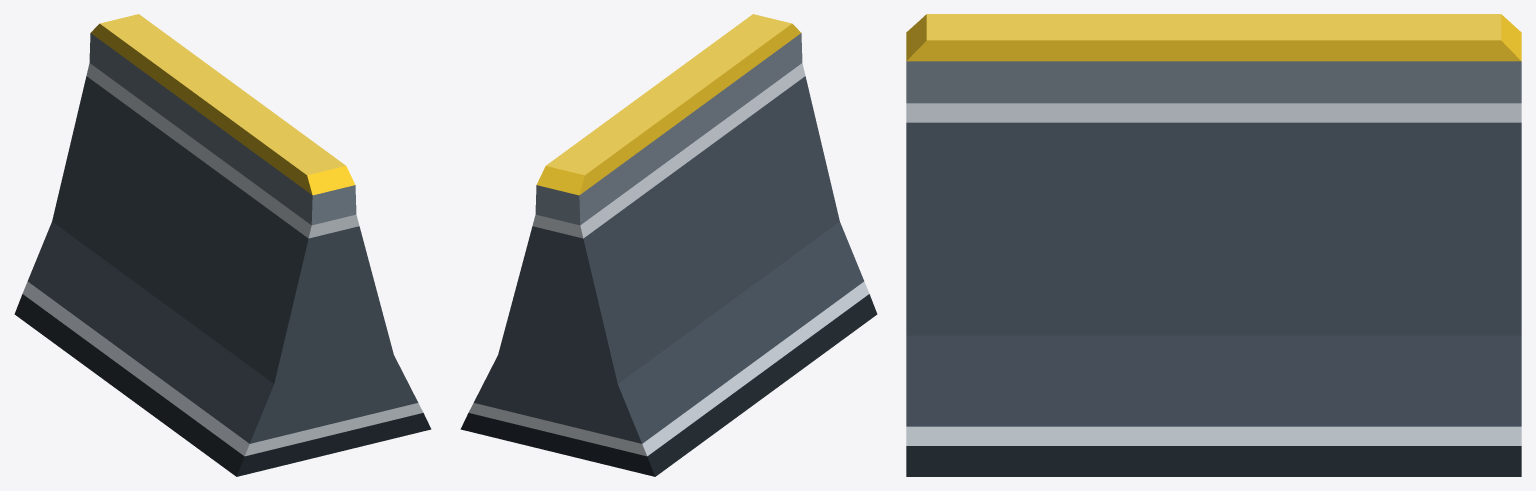
The model's file is Barrier.fbx.
3 views of the same model, side by side, from view 1: azimuth 30°, elevation 25°; view 2: azimuth 150°, elevation 25°; view 3: azimuth 270°, elevation 25° (orthographic). The views are drawn at different scales.
Visible parts, largest first — view 1: Cube; view 2: Cube; view 3: Cube.
Part boxes in pixels (box(x1,y1,x2,y2)): Cube: box(14, 14, 431, 476); Cube: box(460, 14, 877, 476); Cube: box(906, 14, 1521, 476).
Size of the model in its own units: 101 by 138 by 200.
